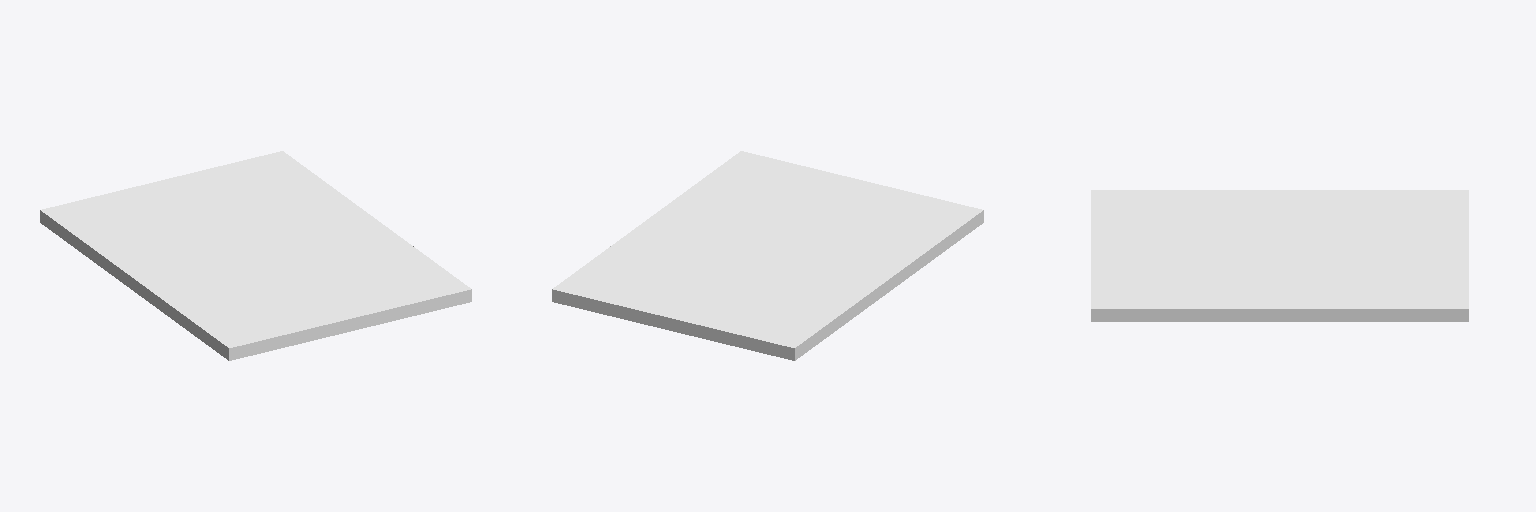
The model's file is grass7.obj.
3 views of the same model, side by side, from view 1: azimuth 30°, elevation 25°; view 2: azimuth 150°, elevation 25°; view 3: azimuth 270°, elevation 25° (orthographic).
Parts seen in each view (by area): view 1: object 1; view 2: object 1; view 3: object 1.
Boxes of the visible parts, box(x1,y1,x2,y2) form: object 1: box(40, 151, 471, 360); object 1: box(552, 151, 983, 360); object 1: box(1091, 190, 1468, 321).
Size of the model in its own units: 2 by 0.1 by 2.7.